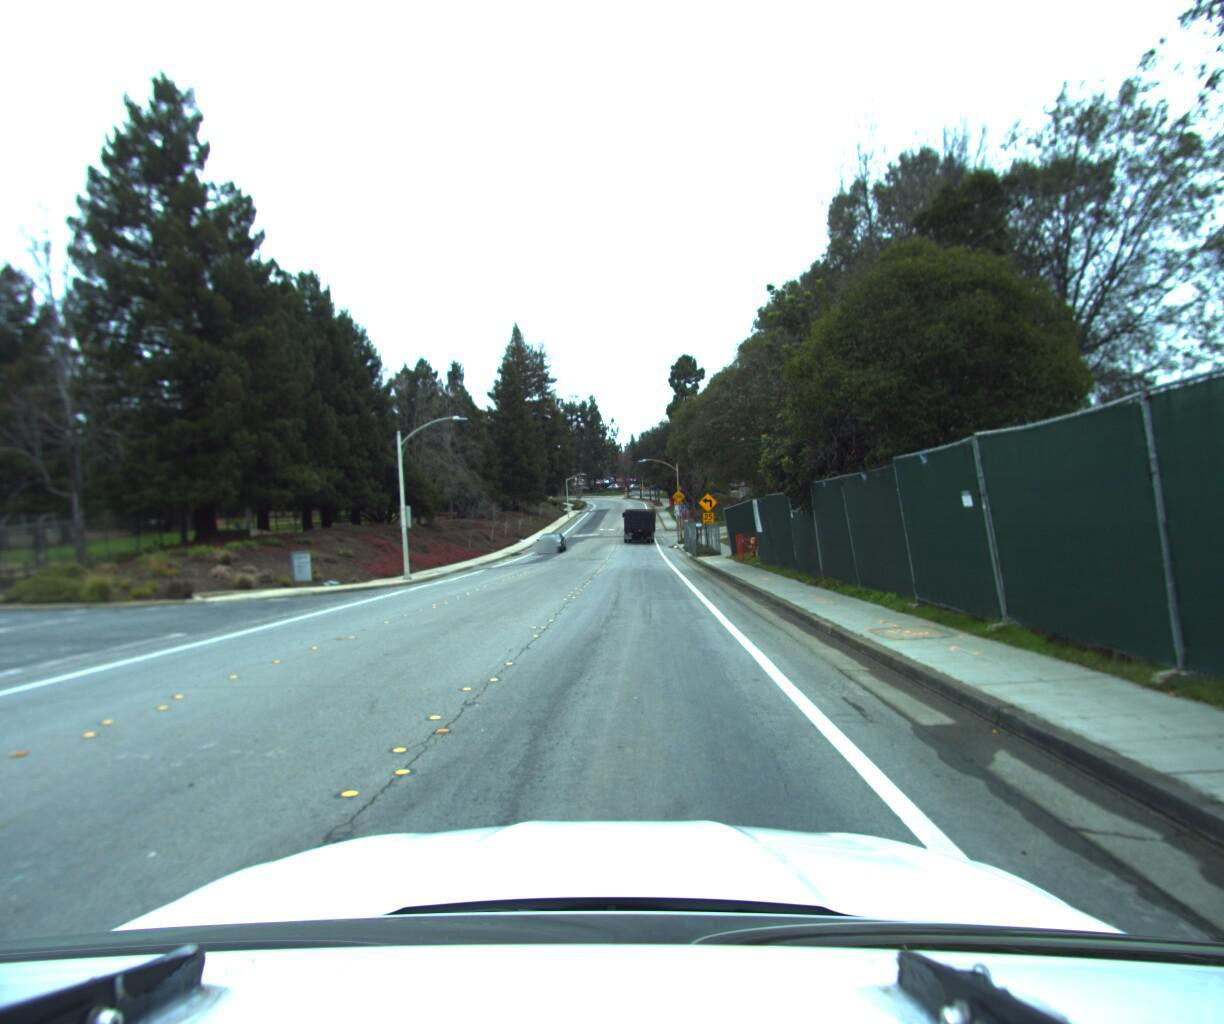car: (531, 523, 565, 553)
truck: (620, 494, 659, 544)
